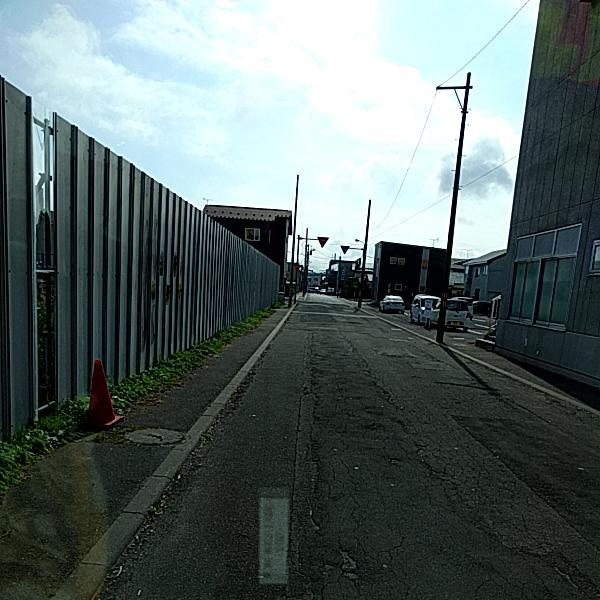D20: (300, 409, 599, 599)
D40: (317, 544, 361, 584)
D50: (124, 425, 186, 444)
